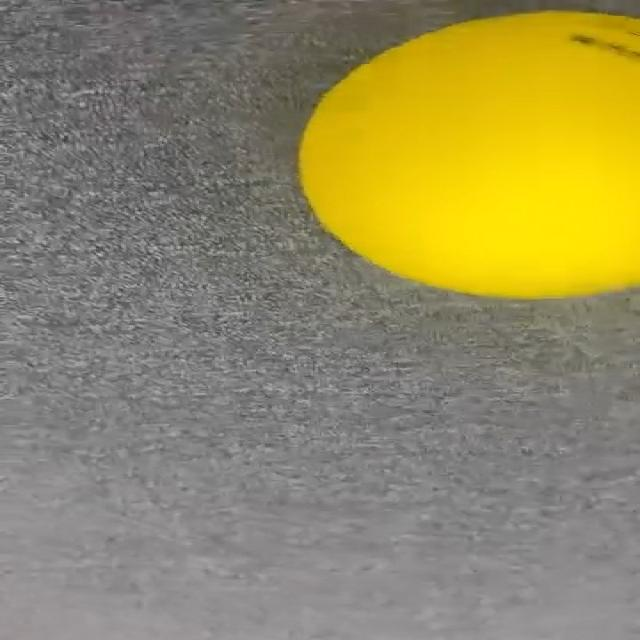Fuels: (295, 7, 640, 299)
